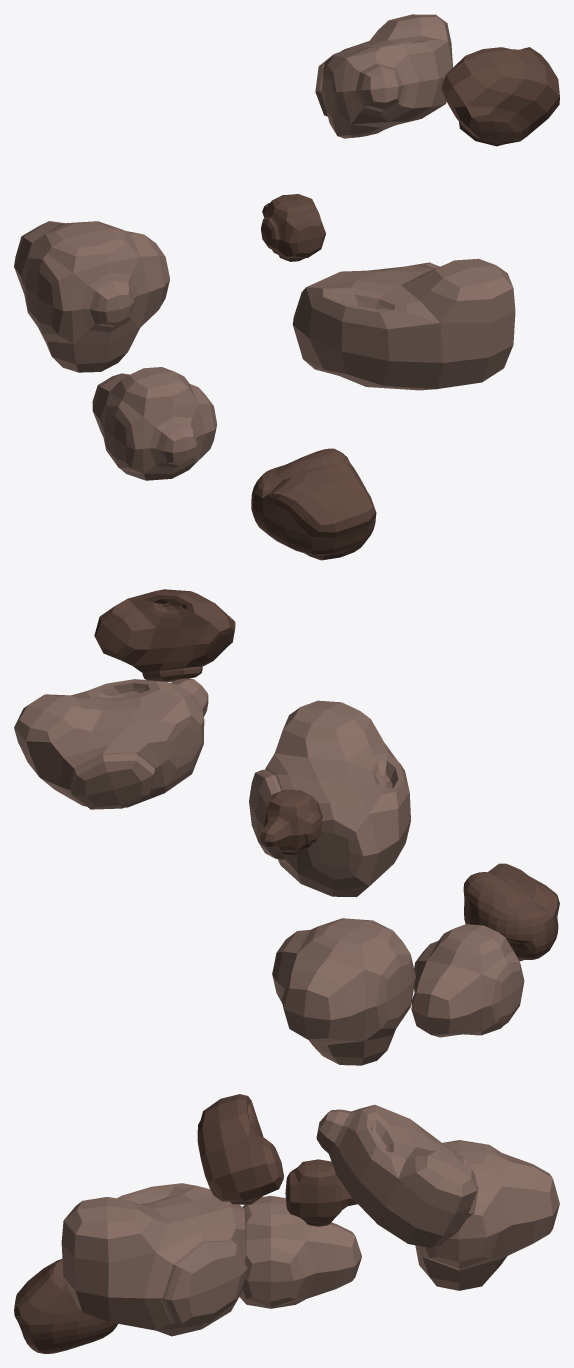
The model's file is floating_rocks.fbx.
3 renders of one model, top to bottom at view 1: azimuth 30°, elevation 25°; view 2: azimuth 150°, elevation 25°; view 3: azimuth 270°, elevation 25°, orthographic. The views are drawn at different scales.
Parts seen in each view (by area): view 1: Cube.055, Cube.057, Cube.062, Cube.056, Sphere.002, Cube.063, Cube.058; view 2: Cube.055, Cube.062, Cube.057, Cube.056, Cube.063, Sphere.002, Cube.058; view 3: Cube.055, Cube.062, Cube.057, Cube.056, Cube.063, Sphere.002, Cube.058.
Boxes of the visible parts, x1,y1,x2,y2 form: Cube.055: (292, 258, 515, 390); Cube.057: (14, 221, 169, 372); Cube.062: (315, 14, 452, 138); Cube.056: (92, 367, 217, 480); Sphere.002: (251, 448, 376, 560); Cube.063: (441, 47, 559, 146); Cube.058: (261, 194, 325, 261); Cube.055: (249, 700, 410, 897); Cube.062: (14, 678, 208, 809); Cube.057: (272, 918, 415, 1065); Cube.056: (411, 924, 524, 1037); Cube.063: (94, 589, 235, 681); Sphere.002: (463, 863, 559, 961); Cube.058: (260, 789, 322, 855); Cube.055: (61, 1183, 247, 1336); Cube.062: (316, 1104, 478, 1247); Cube.057: (415, 1140, 559, 1290); Cube.056: (239, 1195, 361, 1308); Cube.063: (197, 1094, 283, 1204); Sphere.002: (14, 1259, 117, 1353); Cube.058: (285, 1159, 357, 1226).
Bounding box in the file's own units: 1203 × 1012 × 1343.
